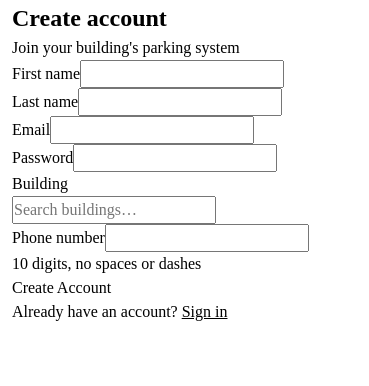
Test: registerForm › shows domain error returned from server
Type "Jane" into the field labelled "First name".
click(182, 74); type("Jane")  # box [80, 60, 284, 88]
Type "Doe" into the field labelled "Last name".
click(180, 102); type("Doe")  # box [78, 88, 282, 116]
Type "jane@unosquare.com" into the field labelled "Email".
click(152, 130); type("jane@unosquare.com")  # box [50, 116, 254, 144]
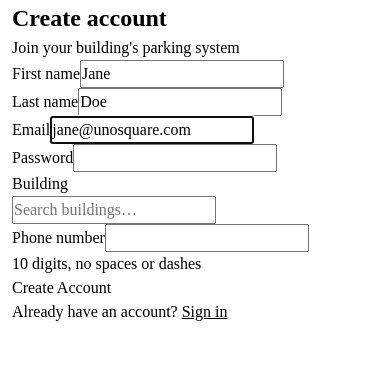
Type "secret12" into the password field labelled "Password".
click(175, 158); type("secret12")  # box [73, 144, 277, 172]
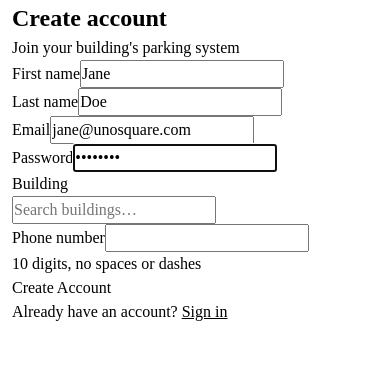
Click the field labelled "Building".
click(114, 210)  # box [12, 196, 216, 224]
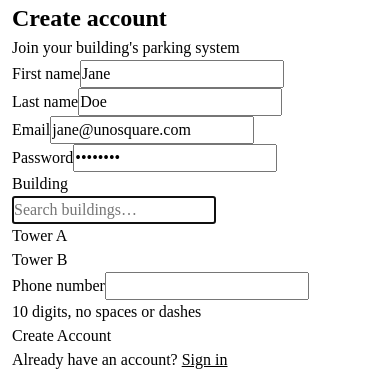
Click the option "Tower A".
click(40, 236)  # box [12, 227, 67, 244]
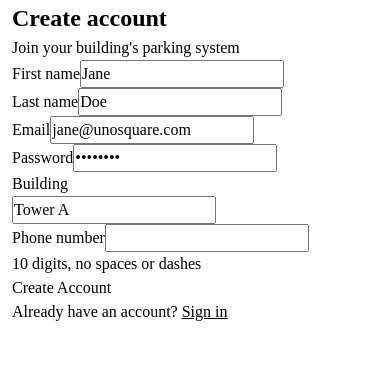
Type "1234567890" into the field labelled "Phone number".
click(207, 238); type("1234567890")  # box [105, 224, 309, 252]
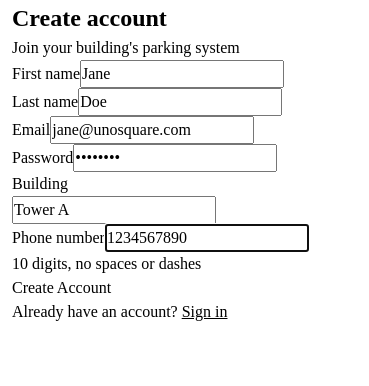
Click the button "Create Account".
click(62, 288)  # box [12, 276, 111, 300]
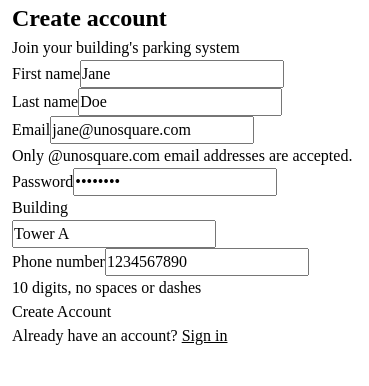
Expected: the message reads "Only @unosquare.com email addresses are accepted.", [12, 147, 352, 164]
